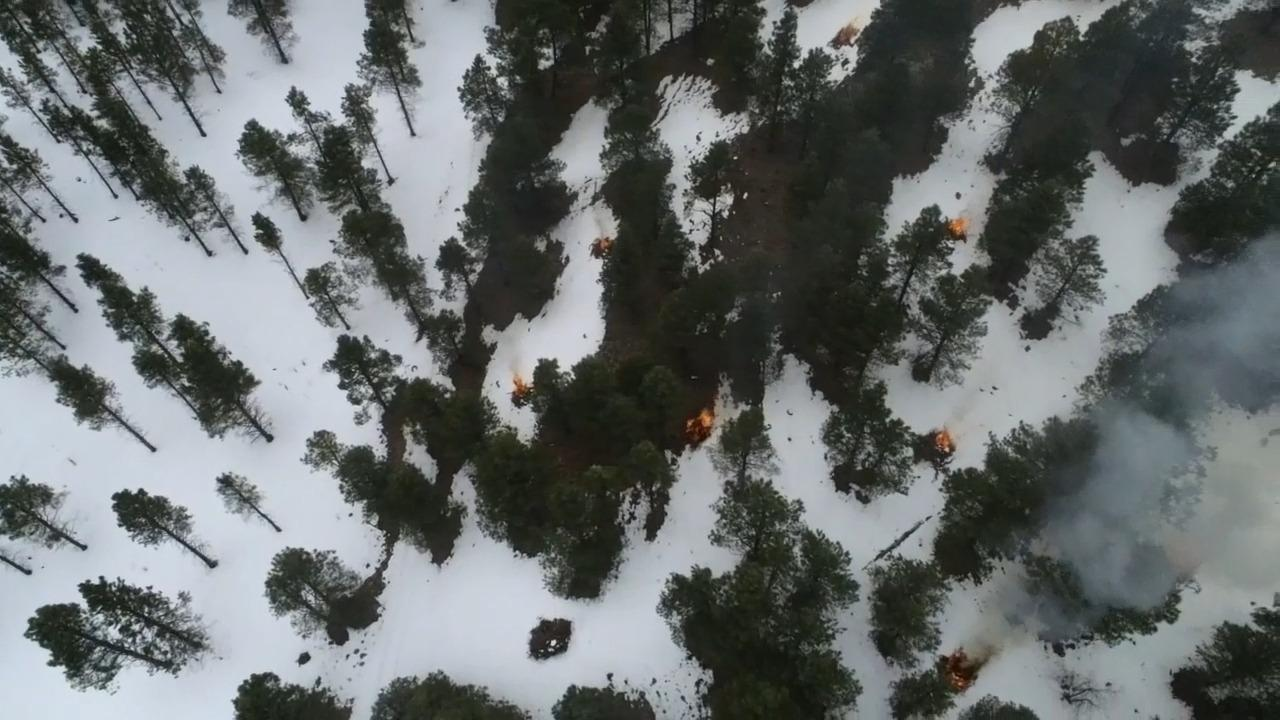fire: (938, 643, 985, 692), (680, 397, 720, 451), (933, 425, 964, 459), (943, 209, 972, 241)
smoke: (1032, 433, 1280, 630), (1086, 239, 1280, 434)
